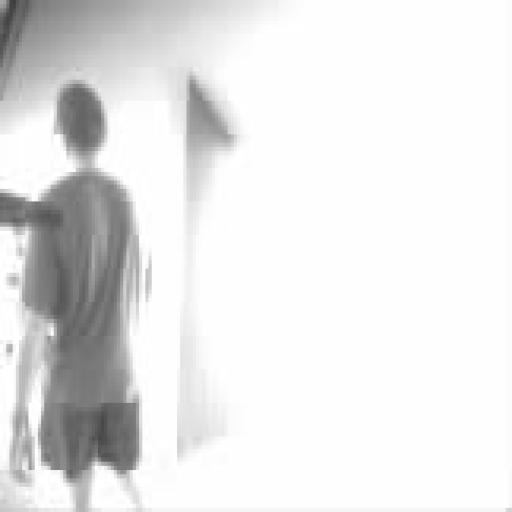human: (10, 80, 142, 511)
